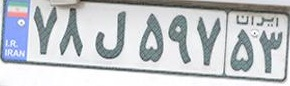character: (89, 4, 128, 62), (131, 7, 166, 64), (167, 9, 194, 69), (58, 4, 87, 59), (196, 14, 222, 70), (32, 2, 57, 58), (256, 27, 284, 77), (227, 27, 256, 74)
